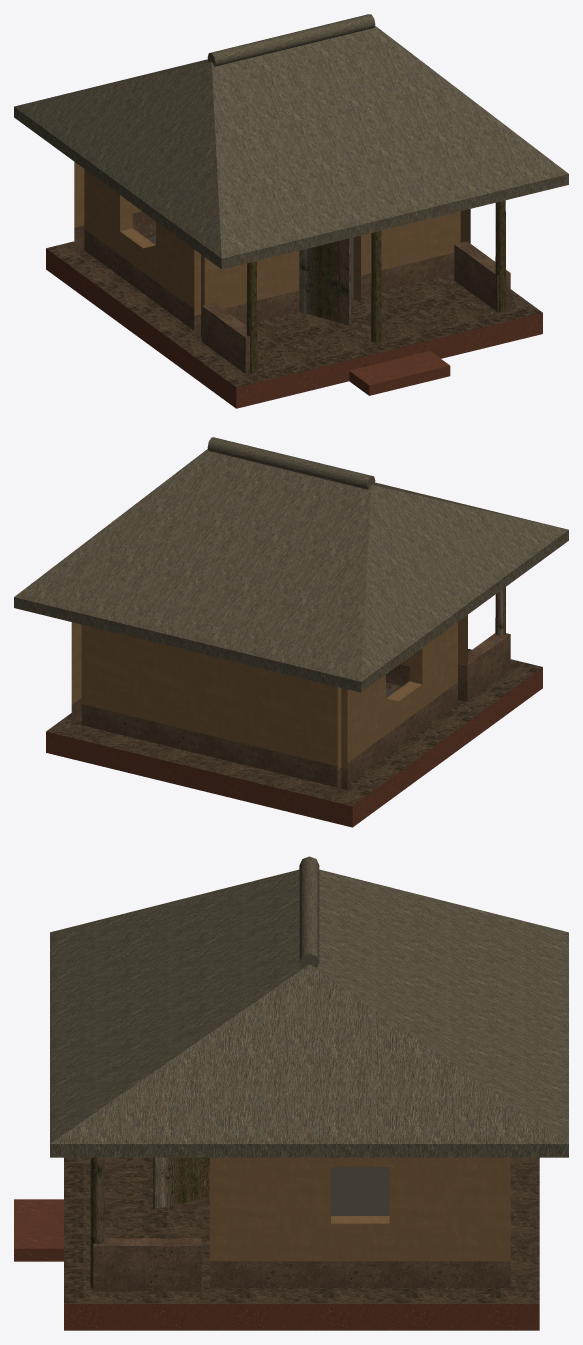
File: hut_b.glb
3 views of the same model, one above another, from view 1: azimuth 30°, elevation 25°; view 2: azimuth 150°, elevation 25°; view 3: azimuth 270°, elevation 25° (orthographic). The views are drawn at different scales.
Parts seen in each view (by area): view 1: hut_b; view 2: hut_b; view 3: hut_b.
Boxes of the visible parts, x1,y1,x2,y2 form: hut_b: (14,14,568,408); hut_b: (14,437,568,827); hut_b: (14,856,568,1330).
Size of the model in its own units: 6 by 4.39 by 6.65.
Materials: 8 (7 with a texture image).
